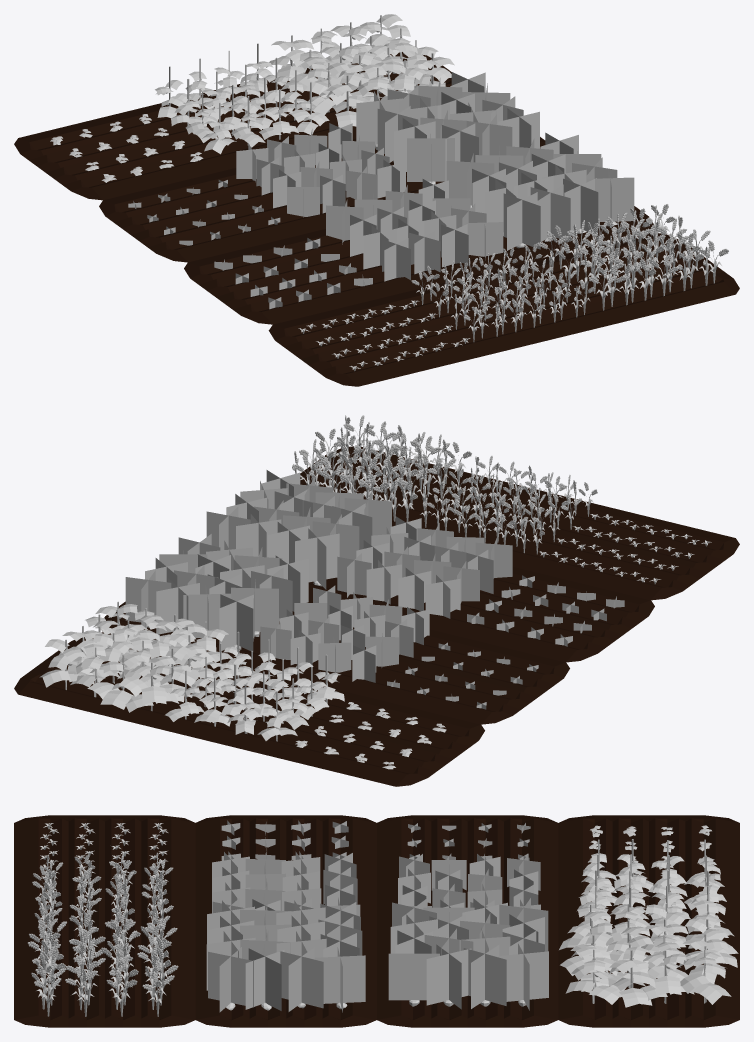
The model's file is crops-low-poly.obj.
The picture shows the model from 3 angles, top to bottom: view 1: azimuth 30°, elevation 25°; view 2: azimuth 150°, elevation 25°; view 3: azimuth 270°, elevation 25°; orthographic projection. The views are drawn at different scales.
Parts seen in each view (by area): view 1: Soil.002, Soil.003, Potatoe_F3, Soil, Carrot_F3, Soil.001, Potatoe_F2, Tomatoe_F3, Carrot_F2, Tomatoe_F2, Wheat_F3, Wheat_F2 (+4 smaller); view 2: Soil.002, Soil.003, Soil.001, Carrot_F3, Potatoe_F3, Tomatoe_F3, Soil, Potatoe_F2, Carrot_F2, Tomatoe_F2, Wheat_F3, Wheat_F2 (+4 smaller); view 3: Soil.002, Soil.003, Soil.001, Carrot_F3, Potatoe_F3, Soil, Tomatoe_F3, Wheat_F3, Potatoe_F2, Carrot_F2, Tomatoe_F2, Wheat_F2 (+4 smaller).
Part boxes in pixels (box(x1,y1,x2,y2)): Soil.002: box(268, 233, 739, 386); Soil.003: box(14, 52, 451, 200); Potatoe_F3: box(446, 132, 634, 250); Soil: box(184, 206, 653, 324); Carrot_F3: box(356, 72, 539, 184); Soil.001: box(99, 137, 545, 262); Potatoe_F2: box(326, 179, 503, 281); Tomatoe_F3: box(266, 14, 454, 127); Carrot_F2: box(236, 123, 405, 217); Tomatoe_F2: box(155, 43, 329, 154); Wheat_F3: box(537, 204, 728, 310); Wheat_F2: box(411, 243, 595, 342); Soil.002: box(300, 446, 739, 600); Soil.003: box(14, 632, 484, 786); Soil.001: box(102, 599, 569, 724); Carrot_F3: box(125, 534, 308, 651); Potatoe_F3: box(206, 470, 391, 589); Tomatoe_F3: box(39, 601, 232, 712); Soil: box(308, 566, 654, 662); Potatoe_F2: box(337, 516, 512, 618); Carrot_F2: box(260, 585, 429, 682); Tomatoe_F2: box(165, 631, 344, 741); Wheat_F3: box(292, 415, 471, 522); Wheat_F2: box(420, 455, 597, 554); Soil.002: box(14, 815, 195, 1027); Soil.003: box(558, 815, 739, 1027); Soil.001: box(377, 815, 558, 1027); Carrot_F3: box(388, 898, 548, 1010); Potatoe_F3: box(206, 900, 365, 1012); Soil: box(195, 815, 376, 1027); Tomatoe_F3: box(559, 900, 738, 1007); Wheat_F3: box(27, 910, 178, 1016); Potatoe_F2: box(212, 851, 360, 916); Carrot_F2: box(398, 853, 540, 909); Tomatoe_F2: box(576, 839, 729, 940); Wheat_F2: box(32, 852, 173, 940).
Bounding box in the file's own units: 7.52 × 0.8909 × 10.86.
